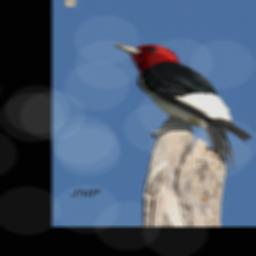Woodpecker: (109, 42, 256, 169)
